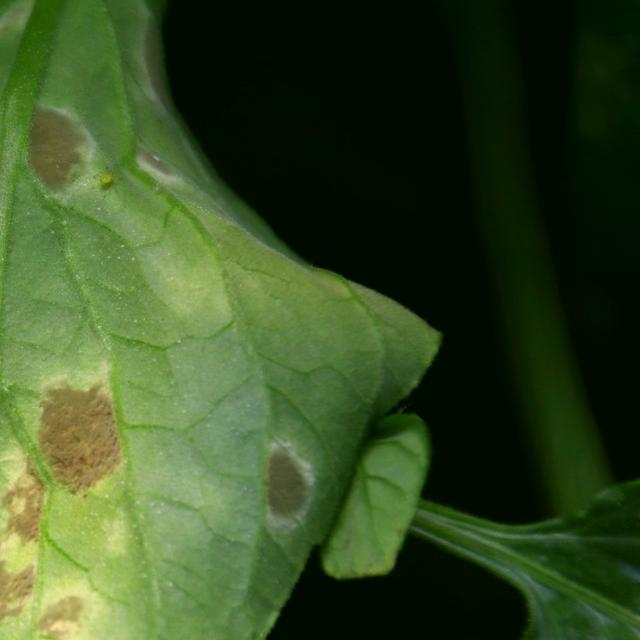Tomato mold leaf: (0, 15, 430, 640)
